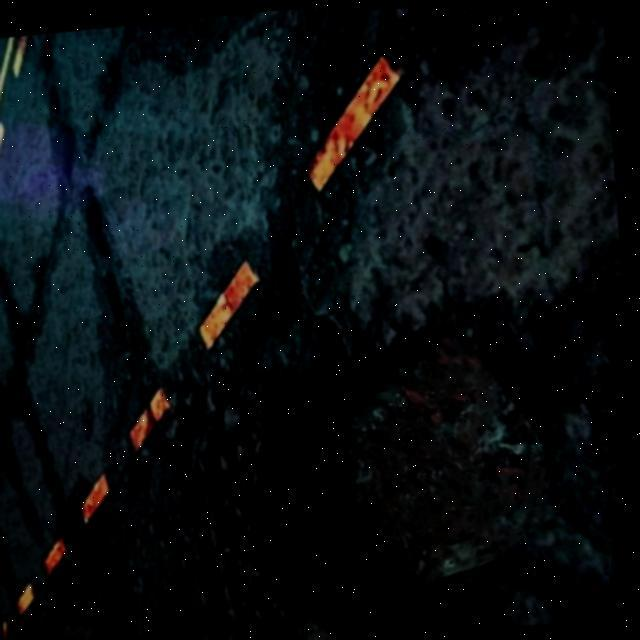pothole: (306, 303, 583, 604)
